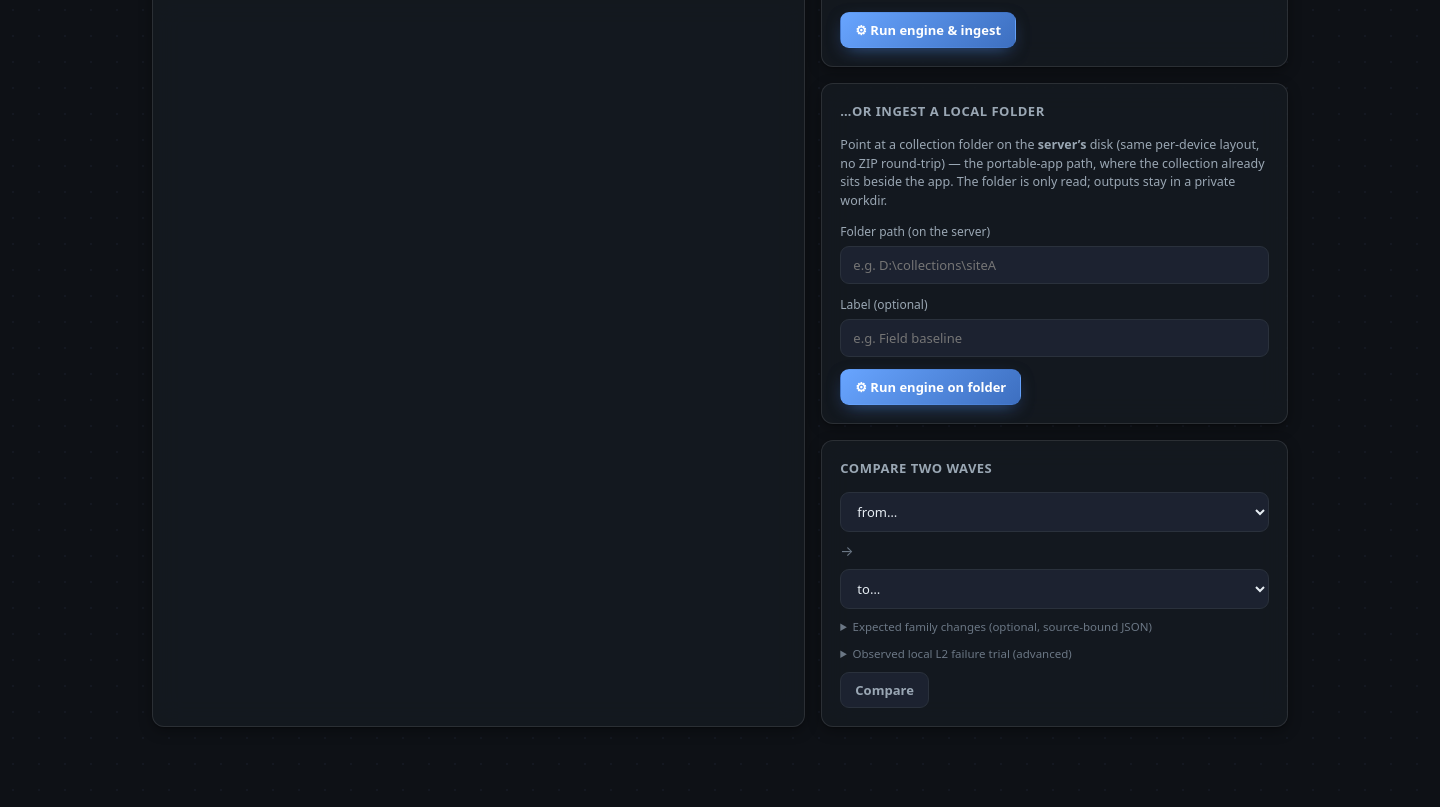
Test: CampaignPage · coverage honesty and stale state › keeps the newest submitted pair when an older compare resolves late
(page scrolled)
Expected: the heading "Compare two waves" is shown, [840,459,992,477]
Select "Wave 1" in the 1st dropdown at (1055, 512), box [840,492,1269,532]
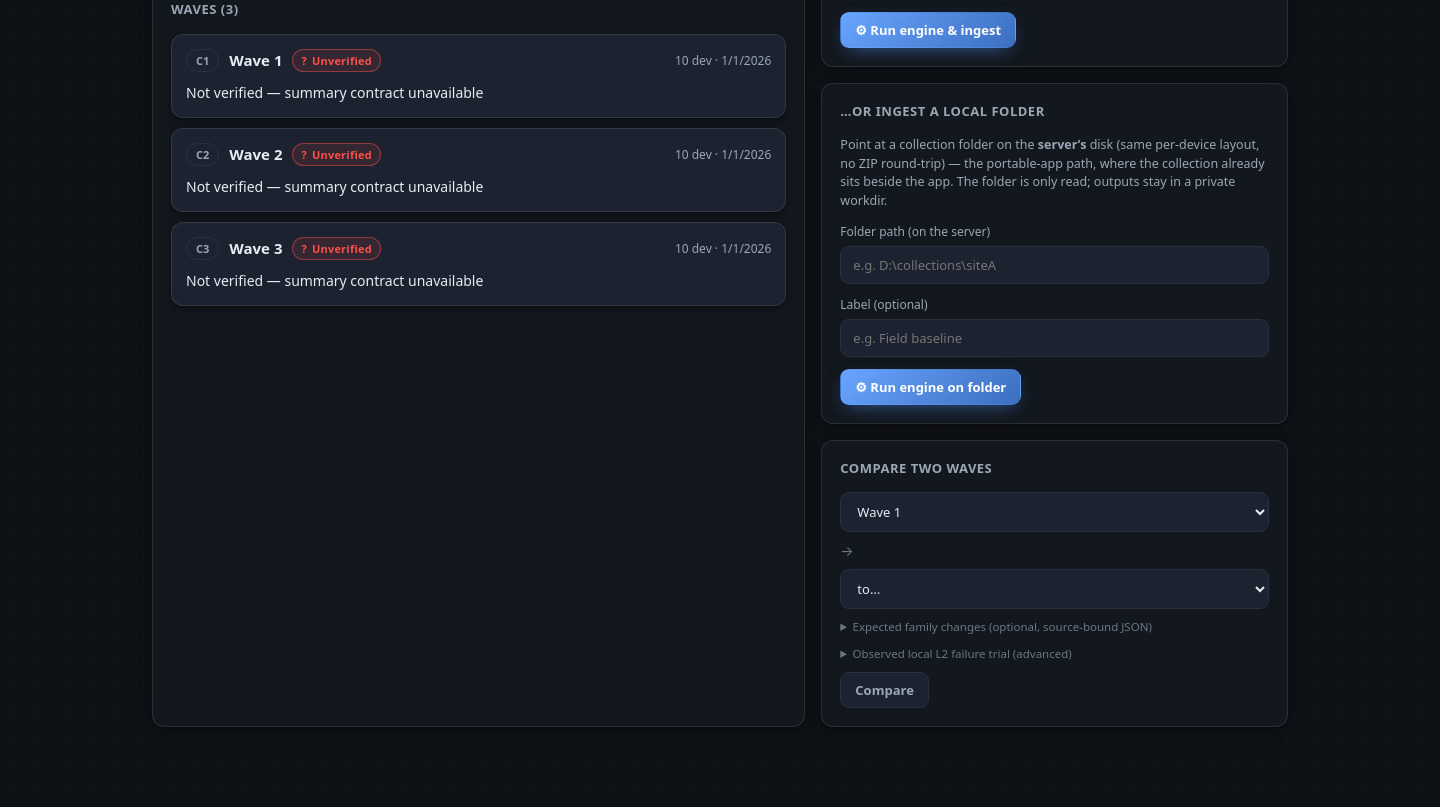
Select "Wave 2" in the 2nd dropdown at (1055, 589), box [840,569,1269,609]
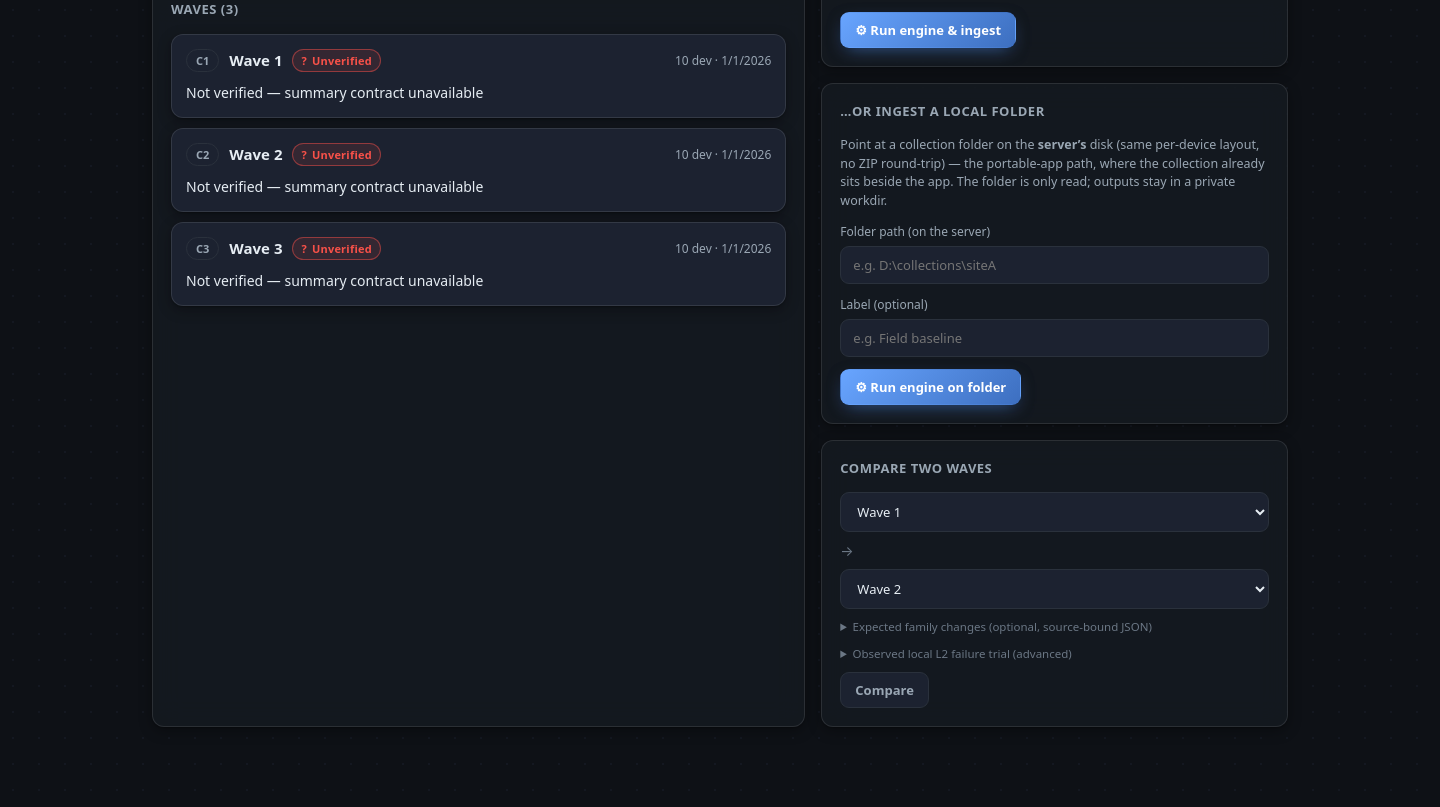
Click the button "Compare" at (885, 690), box [840,672,929,708]
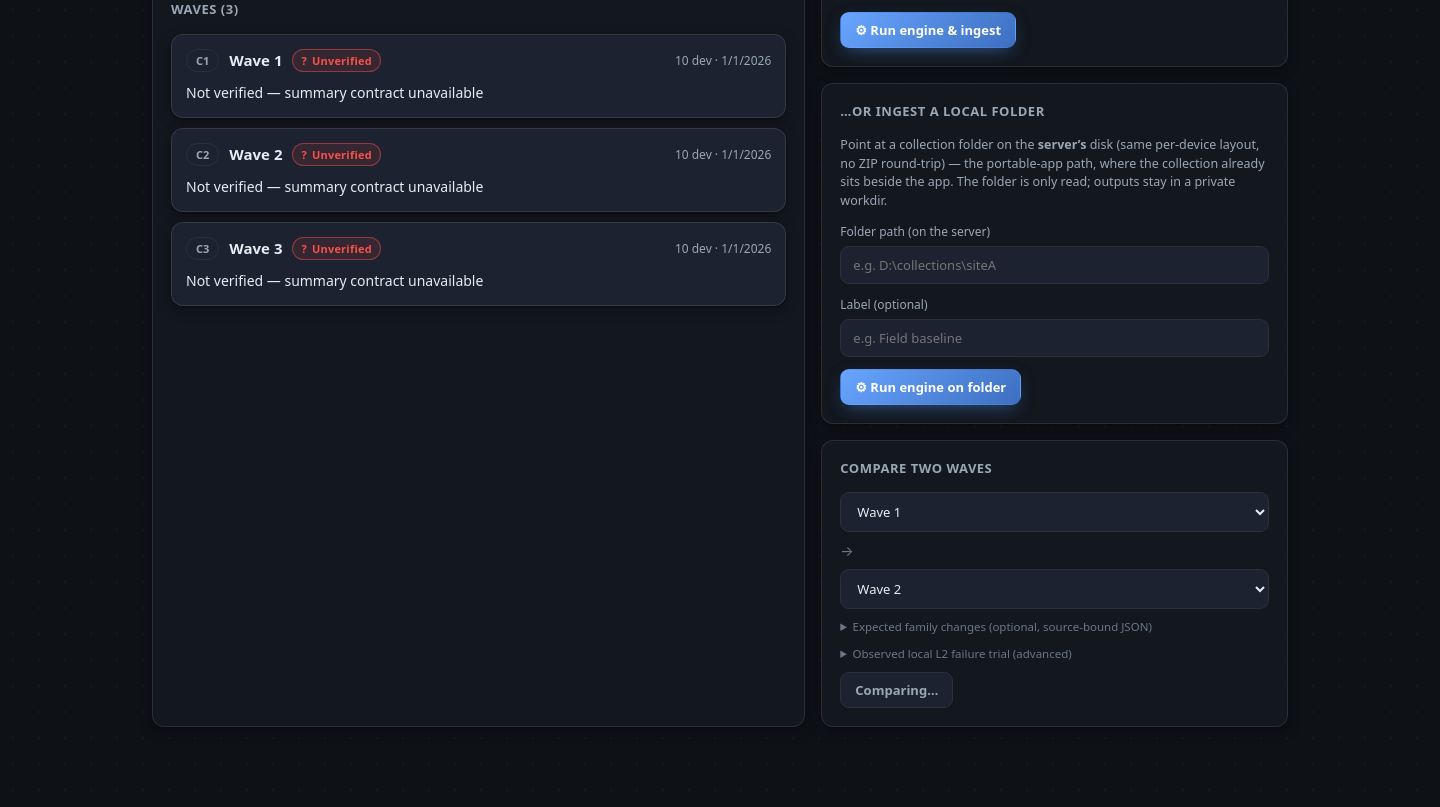
Select "Wave 2" in the 1st dropdown at (1055, 512), box [840,492,1269,532]
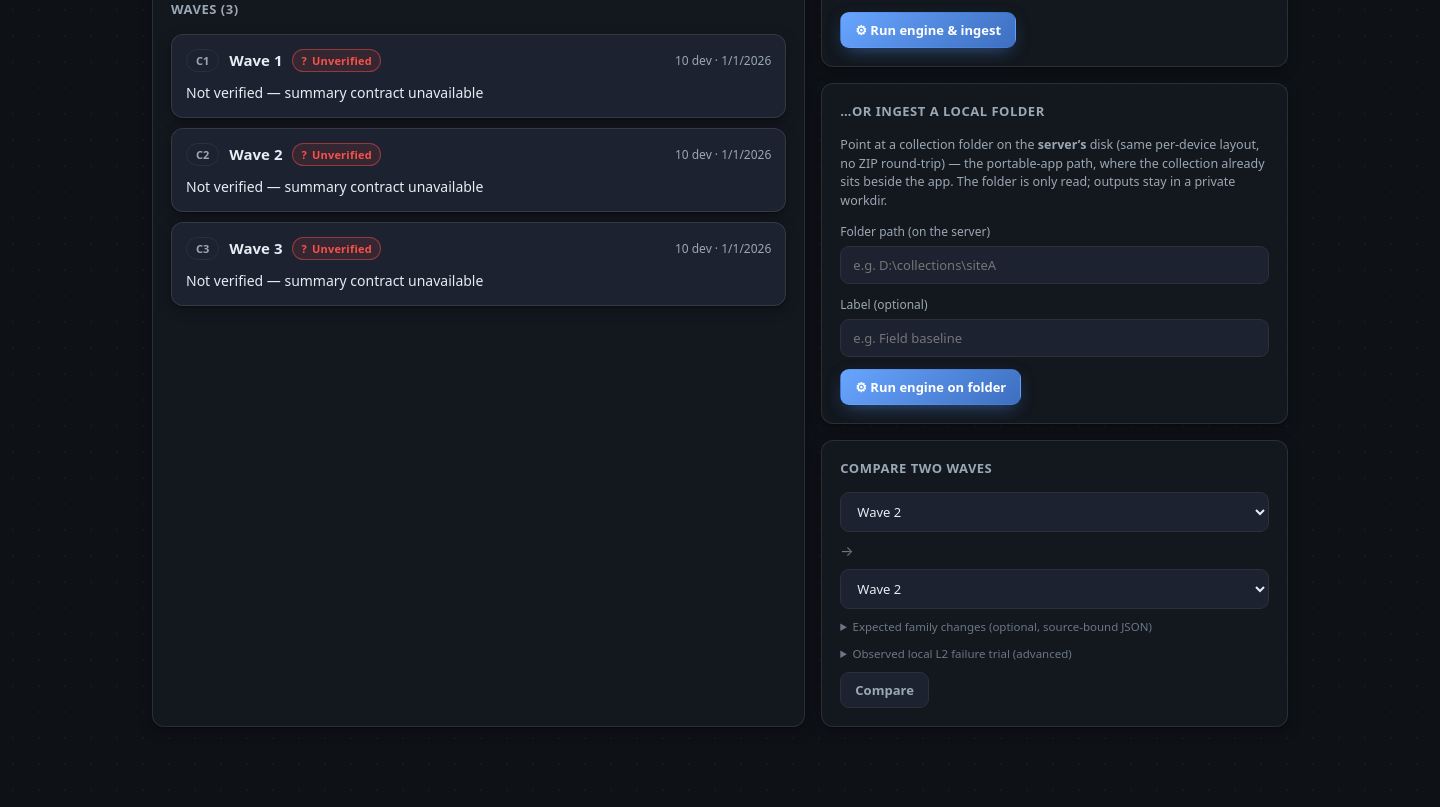
Select "Wave 3" in the 2nd dropdown at (1055, 589), box [840,569,1269,609]
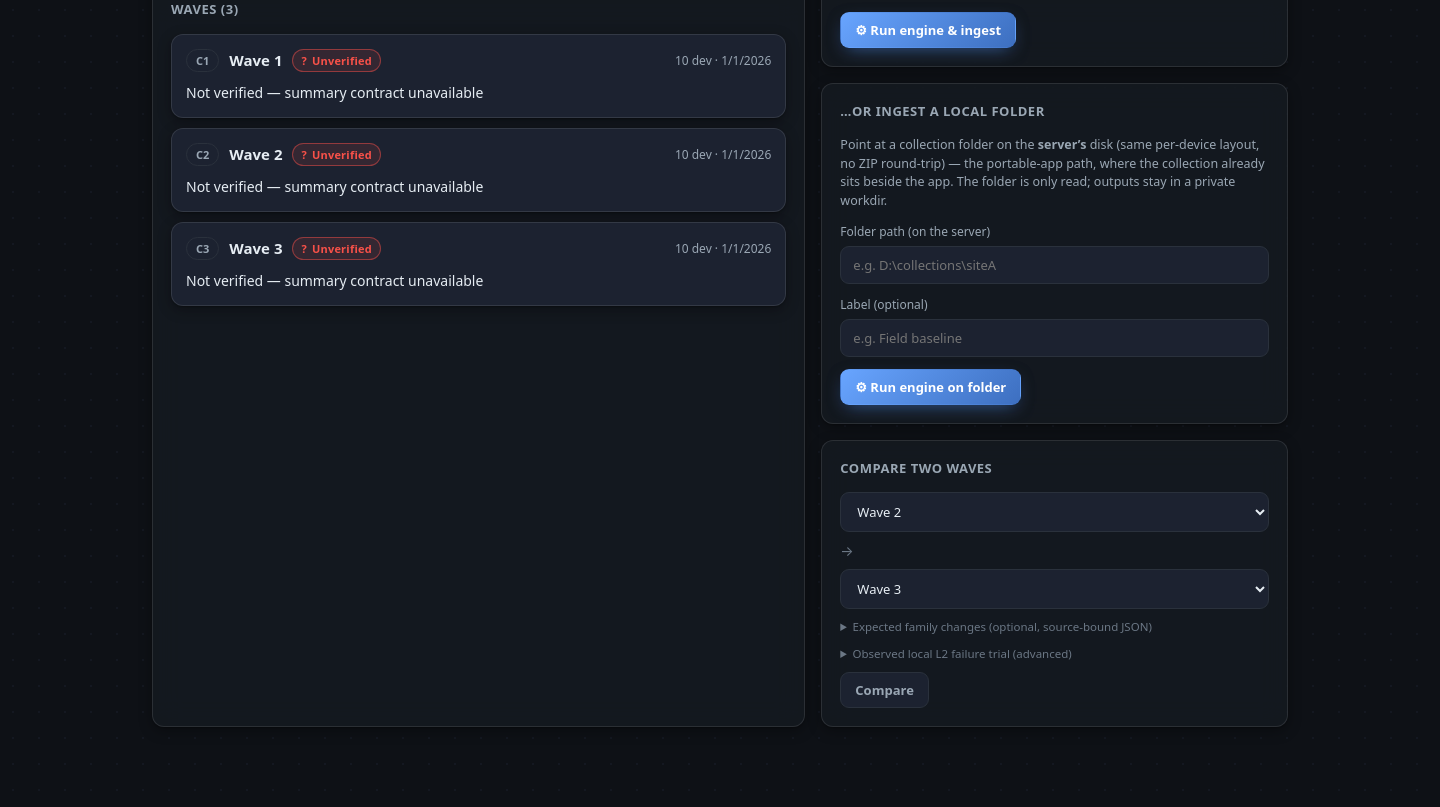
Click the button "Compare" at (885, 690), box [840,672,929,708]
(page scrolled)
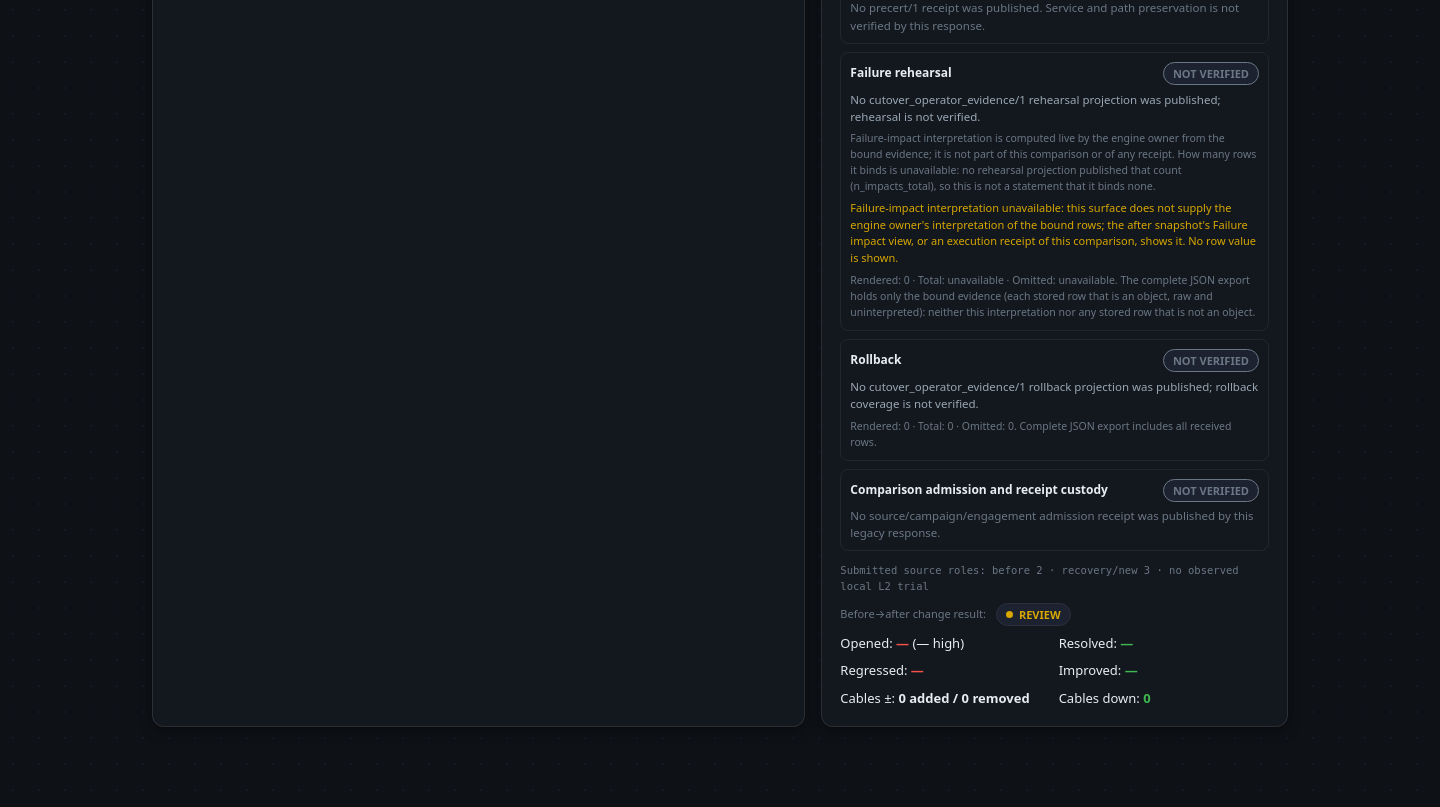
Now the element with test id "compare-delta-verdict" reads "REVIEW", box [1019,606,1061,622]
Now the text with test id "comparison-submitted-context" shows "before 2 · recovery/new 3", box [840,563,1269,594]
